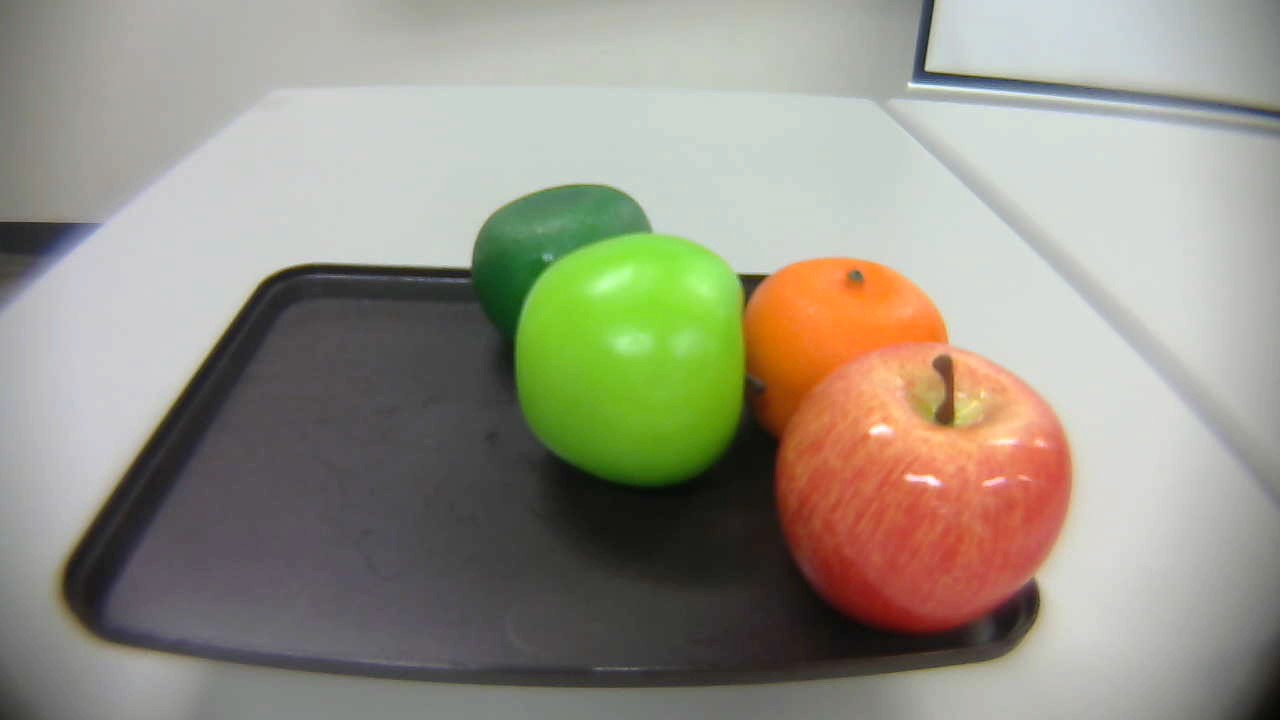green apple: (507, 232, 748, 494)
green orange: (467, 179, 661, 340)
orange: (746, 256, 954, 442)
red apple: (762, 340, 1073, 627)
